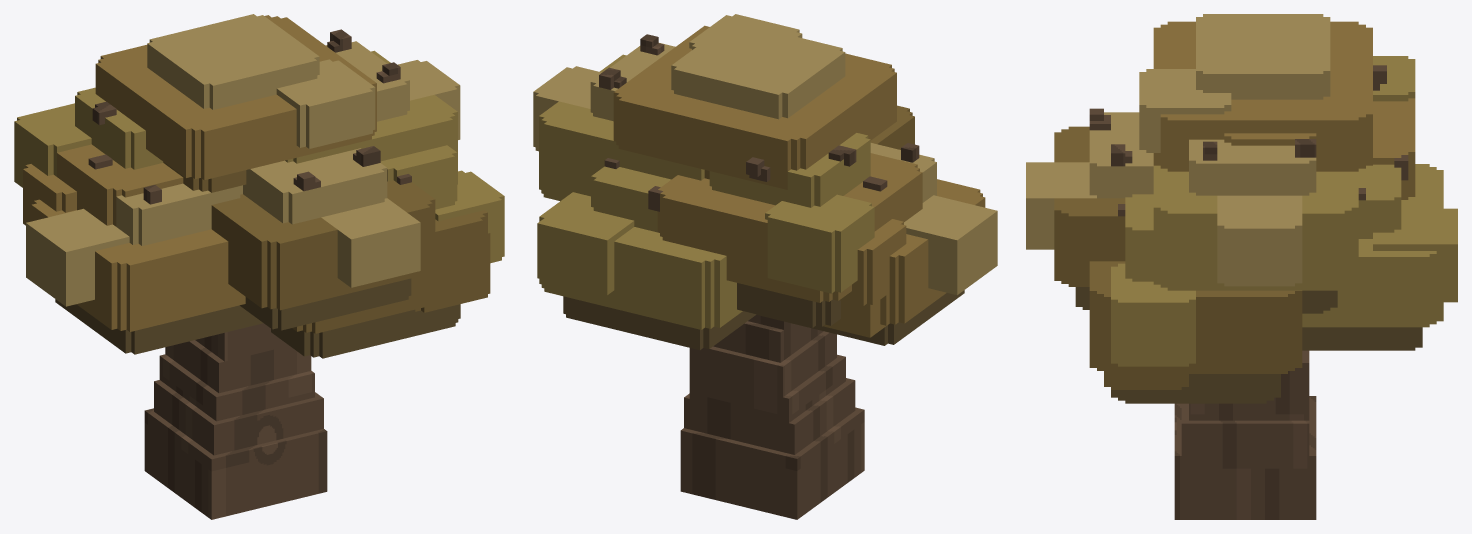
File: apple_ancient_autumn_2.glb
The picture shows the model from 3 angles, left to right: view 1: azimuth 30°, elevation 25°; view 2: azimuth 150°, elevation 25°; view 3: azimuth 270°, elevation 25°; orthographic projection. The views are drawn at different scales.
Visible parts, largest first — view 1: VoxelVisual; view 2: VoxelVisual; view 3: VoxelVisual.
Part boxes in pixels (x1,y1,x2,y2): VoxelVisual: (14,14,504,519); VoxelVisual: (533,14,997,519); VoxelVisual: (1026,14,1457,519).
Size of what is drawn, in the model's own units: 17.75 by 17.5 by 15.25.
